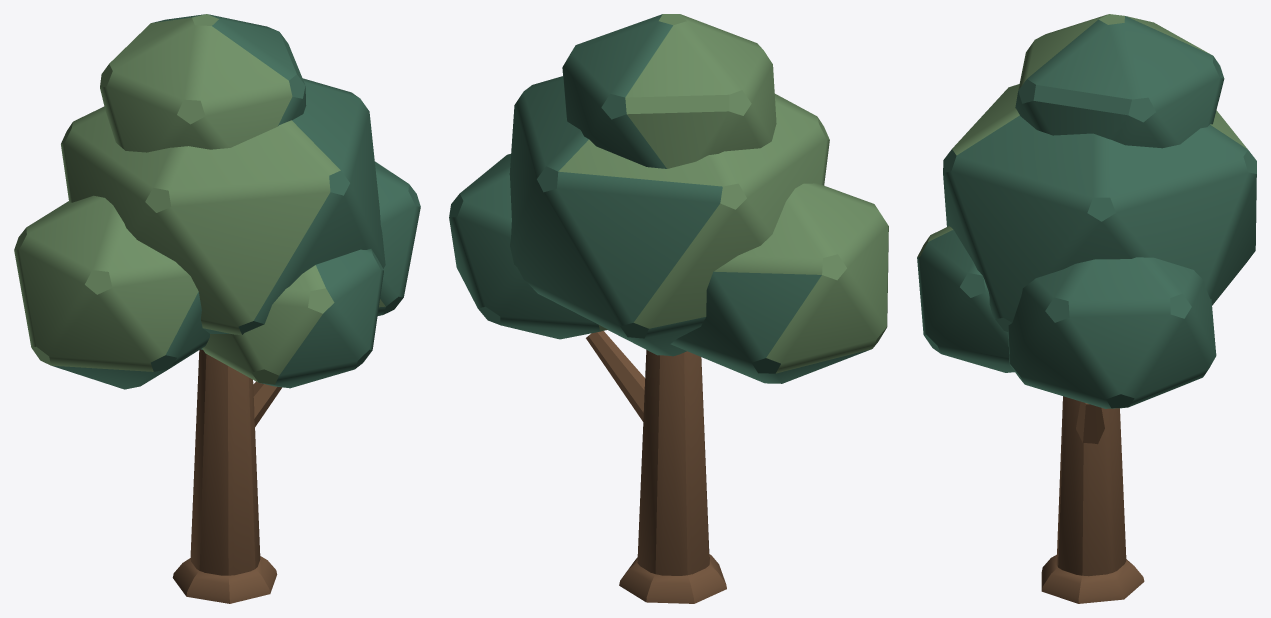
Rendered from Tree_C.fbx.
The picture shows the model from 3 angles, left to right: view 1: azimuth 30°, elevation 25°; view 2: azimuth 150°, elevation 25°; view 3: azimuth 270°, elevation 25°; orthographic projection. The views are drawn at different scales.
Visible parts, largest first — view 1: Tree_C; view 2: Tree_C; view 3: Tree_C.
Part boxes in pixels (<box>): Tree_C: <box>14,14,420,603</box>; Tree_C: <box>449,14,888,603</box>; Tree_C: <box>917,14,1256,603</box>.
Bounding box in the file's own units: 2.01 × 2.74 × 1.51.
